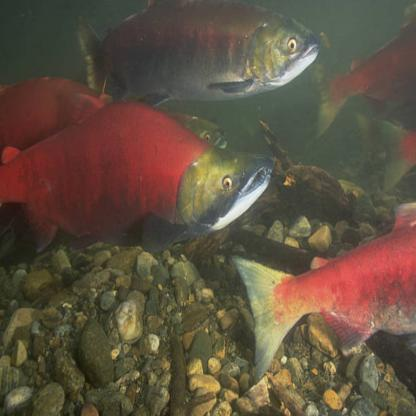sockeye: (0, 111, 268, 244), (80, 10, 315, 102)
